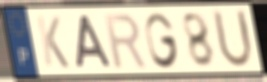8: (181, 10, 216, 69)
A: (75, 14, 114, 70)
G: (143, 10, 181, 70)
K: (34, 14, 72, 71)
R: (102, 12, 149, 71)
U: (210, 8, 255, 71)
